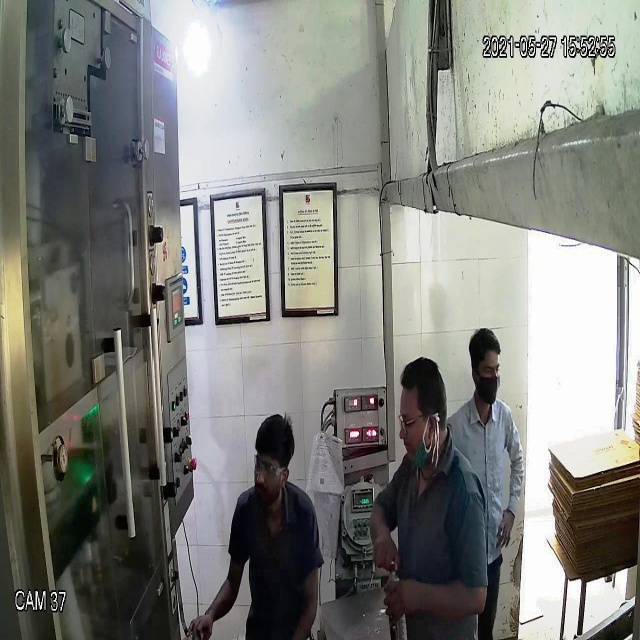Gafas: (395, 409, 440, 437), (253, 458, 289, 482)
Sin_gafas: (472, 357, 505, 377)
